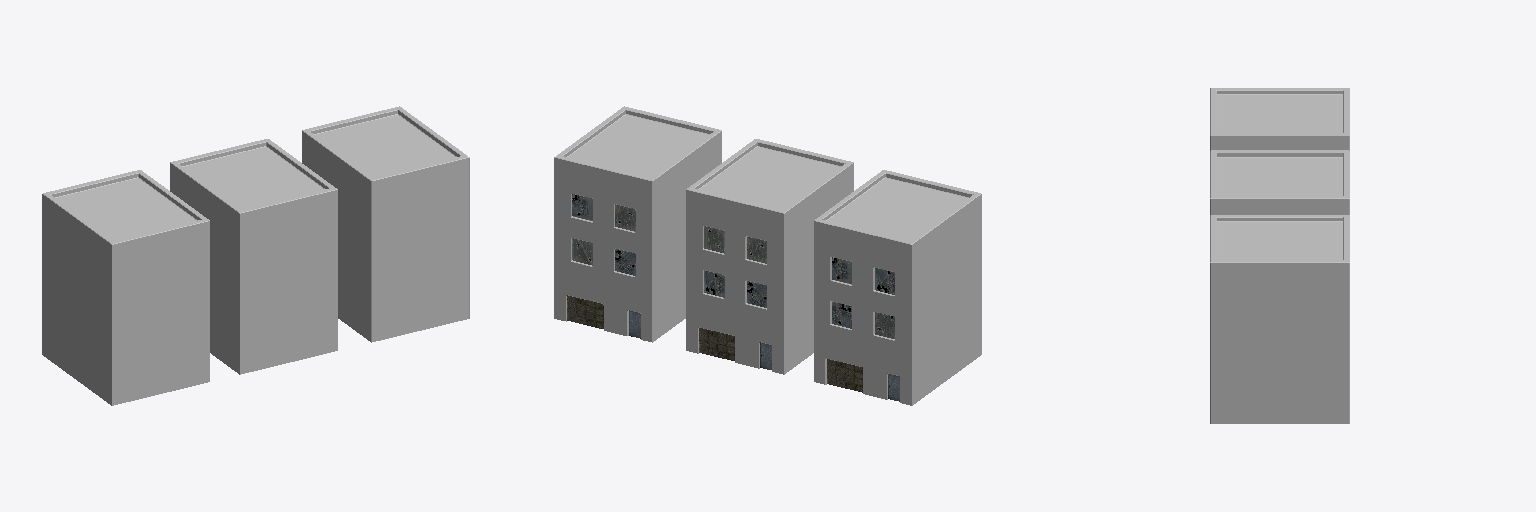
3 views of the same model, side by side, from view 1: azimuth 30°, elevation 25°; view 2: azimuth 150°, elevation 25°; view 3: azimuth 270°, elevation 25° (orthographic).
Visible parts, largest first — view 1: Material-material.002, Material-material, Material-material.001; view 2: Material-material.002, Material-material, Material-material.001, Material_004-material.002, Material_004-material, Material_001-material, Material_002-material, Material_001-material.001, Material_004-material.001, Material_002-material.002, Material_002-material.001; view 3: Material-material, Material-material.001, Material-material.002.
Boxes of the visible parts, x1,y1,x2,y2 form: Material-material.002: [42, 170, 209, 405]; Material-material: [302, 106, 469, 342]; Material-material.001: [170, 139, 337, 374]; Material-material.002: [814, 170, 981, 405]; Material-material: [554, 106, 721, 342]; Material-material.001: [686, 139, 853, 374]; Material_004-material.002: [832, 257, 894, 328]; Material_004-material: [572, 194, 635, 275]; Material_001-material: [572, 204, 635, 265]; Material_002-material: [567, 295, 603, 328]; Material_001-material.001: [704, 226, 766, 263]; Material_004-material.001: [704, 270, 766, 307]; Material_002-material.002: [827, 359, 862, 392]; Material_002-material.001: [699, 328, 734, 360]; Material-material: [1210, 215, 1349, 423]; Material-material.001: [1210, 150, 1349, 214]; Material-material.002: [1210, 88, 1349, 150].
Size of the model in its own units: 12.1 by 5.22 by 4.09.
5 materials, 4 textured.